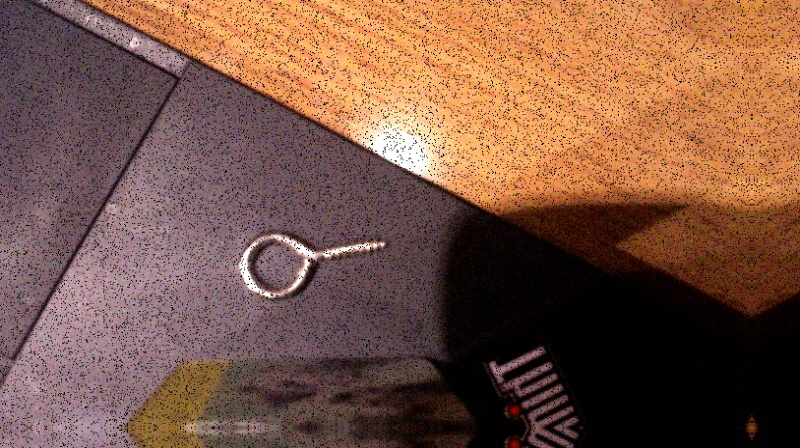O001: (233, 228, 386, 302)
